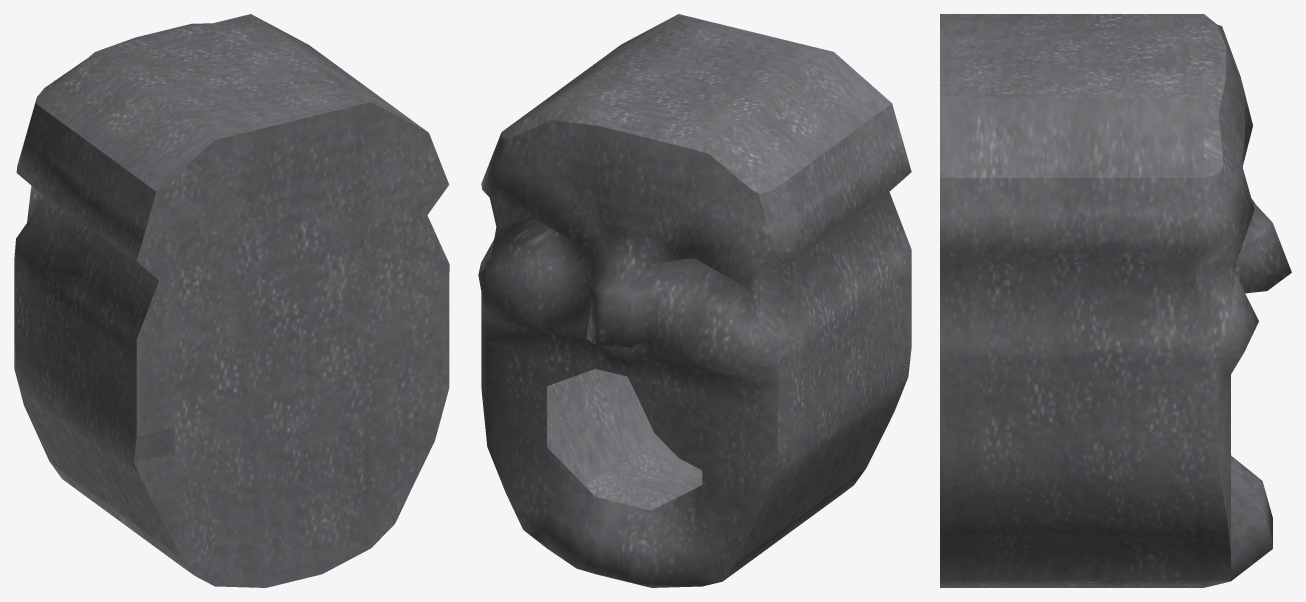
File: Shooter Face.FBX
The picture shows the model from 3 angles, left to right: view 1: azimuth 30°, elevation 25°; view 2: azimuth 150°, elevation 25°; view 3: azimuth 270°, elevation 25°; orthographic projection. The views are drawn at different scales.
Parts seen in each view (by area): view 1: Box375; view 2: Box375; view 3: Box375.
Part boxes in pixels (x1=…): Box375: x1=14, y1=14, x2=449, y2=587; Box375: x1=478, y1=14, x2=911, y2=587; Box375: x1=940, y1=14, x2=1291, y2=587.
Size of the model in its own units: 32.17 by 45.23 by 28.54.
1 material, 1 textured.
